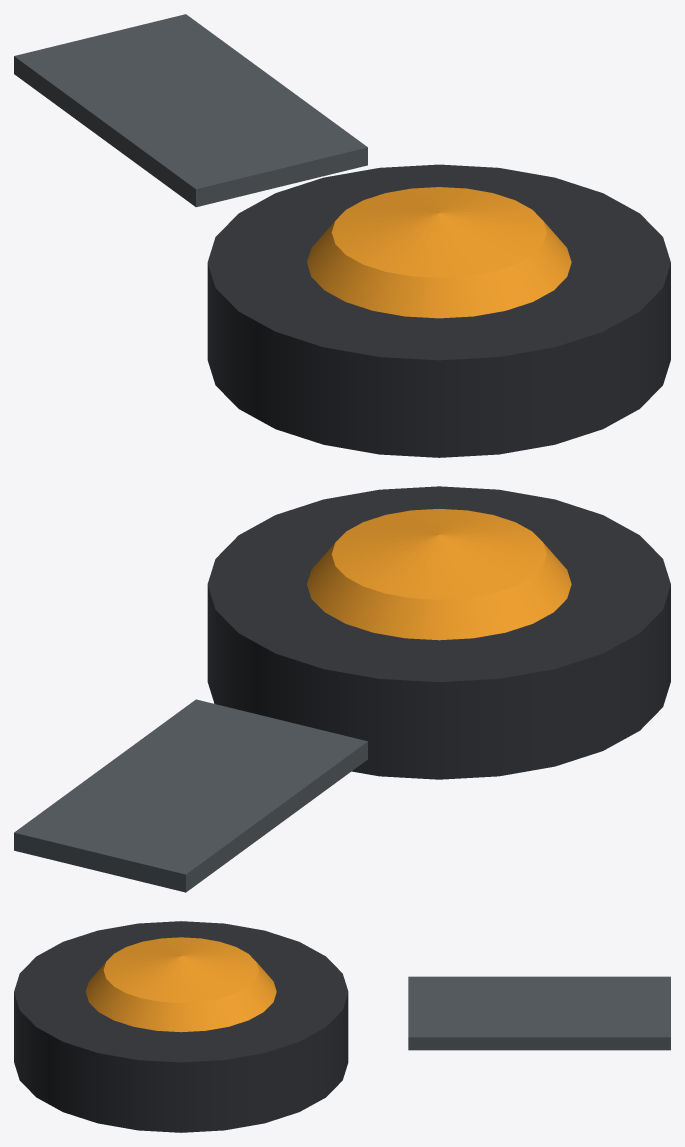
The model's file is ec2_beacon.obj.
The picture shows the model from 3 angles, top to bottom: view 1: azimuth 30°, elevation 25°; view 2: azimuth 150°, elevation 25°; view 3: azimuth 270°, elevation 25°; orthographic projection. The views are drawn at different scales.
Visible parts, largest first — view 1: ec2_beacon; view 2: ec2_beacon; view 3: ec2_beacon.
Part boxes in pixels (x1=…): ec2_beacon: x1=14, y1=14, x2=670, y2=457; ec2_beacon: x1=14, y1=486, x2=670, y2=892; ec2_beacon: x1=14, y1=921, x2=670, y2=1132.
Bounding box in the file's own units: 0.28 × 0.098 × 0.55.
